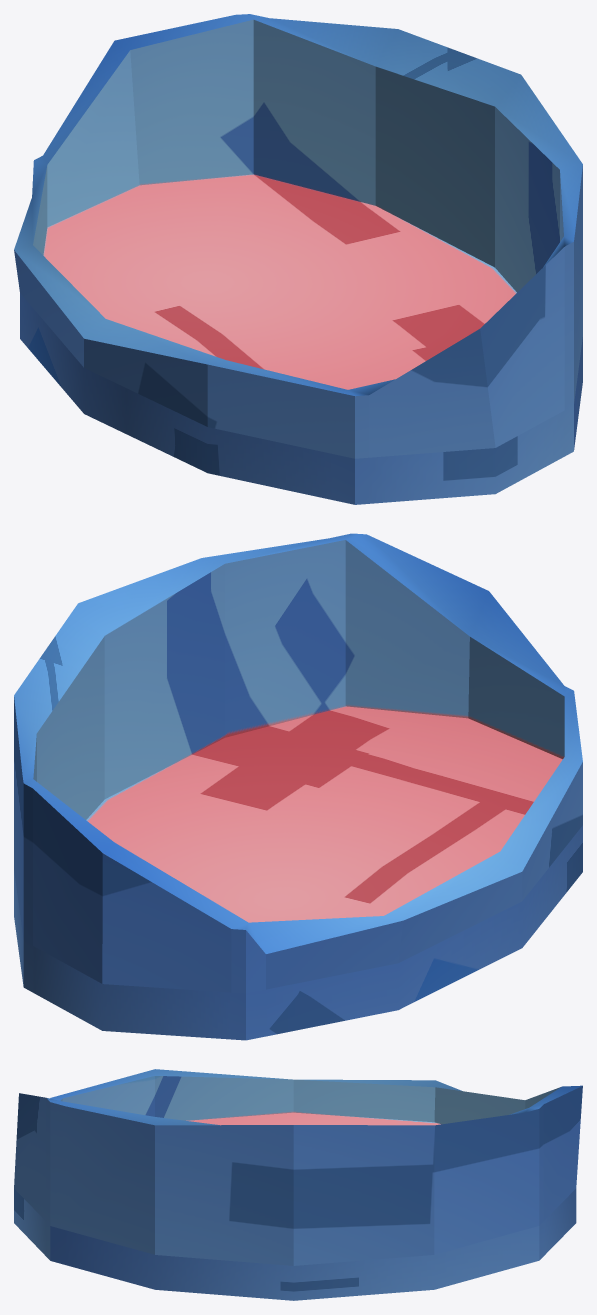
Rendered from catBedpink.FBX.
3 views of the same model, one above another, from view 1: azimuth 30°, elevation 25°; view 2: azimuth 150°, elevation 25°; view 3: azimuth 270°, elevation 25° (orthographic). The views are drawn at different scales.
Visible parts, largest first — view 1: cat_bed; view 2: cat_bed; view 3: cat_bed.
Part boxes in pixels (x1=…): cat_bed: x1=14, y1=14, x2=582, y2=504; cat_bed: x1=14, y1=533, x2=582, y2=1040; cat_bed: x1=14, y1=1069, x2=582, y2=1300.
Bounding box in the file's own units: 36.1 × 18.36 × 53.82.
Materials: 1 (1 with a texture image).
